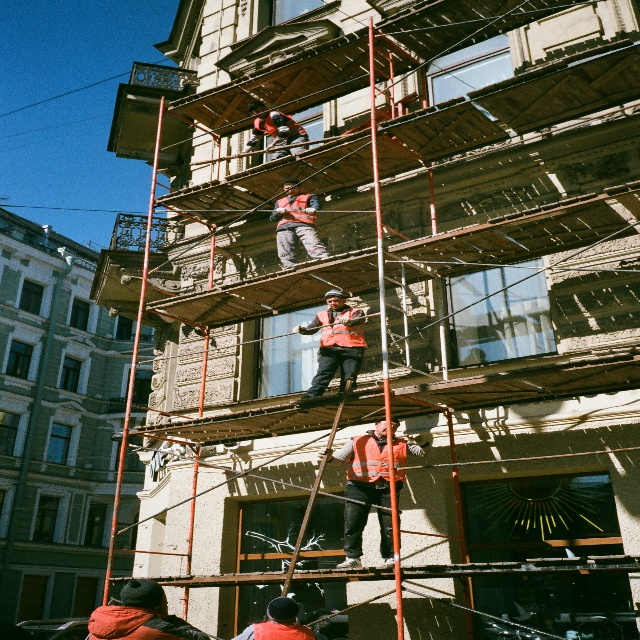Guantes: (405, 432, 427, 446), (317, 447, 337, 460), (337, 316, 351, 327), (291, 325, 306, 335), (264, 142, 274, 154), (303, 207, 316, 215), (276, 207, 285, 216), (232, 152, 242, 160)
